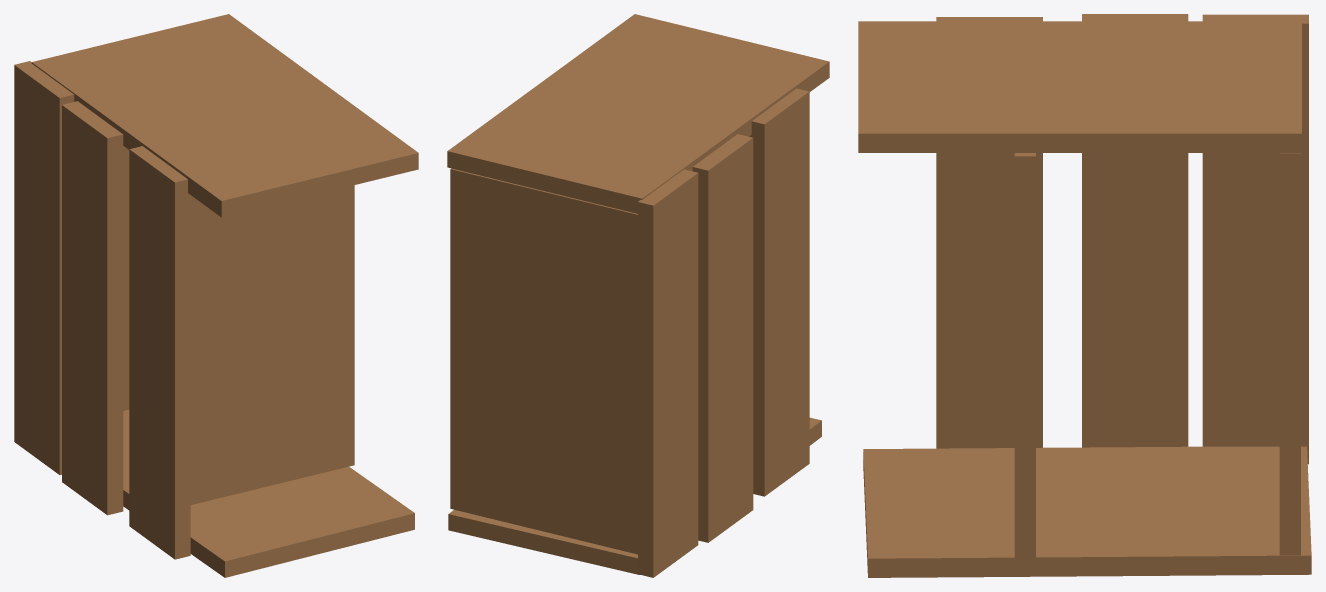
File: tinker.obj
3 views of the same model, side by side, from view 1: azimuth 30°, elevation 25°; view 2: azimuth 150°, elevation 25°; view 3: azimuth 270°, elevation 25° (orthographic). The views are drawn at different scales.
Parts seen in each view (by area): view 1: obj_0; view 2: obj_0; view 3: obj_0.
Part boxes in pixels (left/top/right/bottom): obj_0: left=14, top=14, right=418, bottom=577; obj_0: left=447, top=14, right=829, bottom=577; obj_0: left=858, top=14, right=1311, bottom=577.
Bounding box in the file's own units: 166 × 276 × 255.
